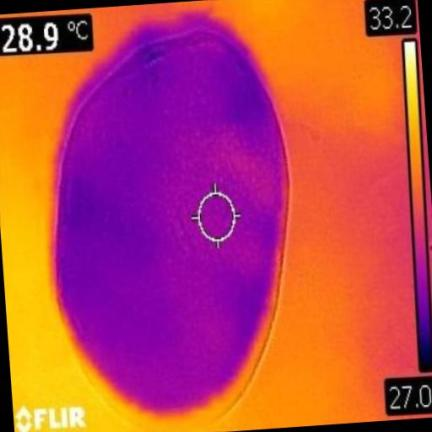mango: (56, 34, 286, 415)
